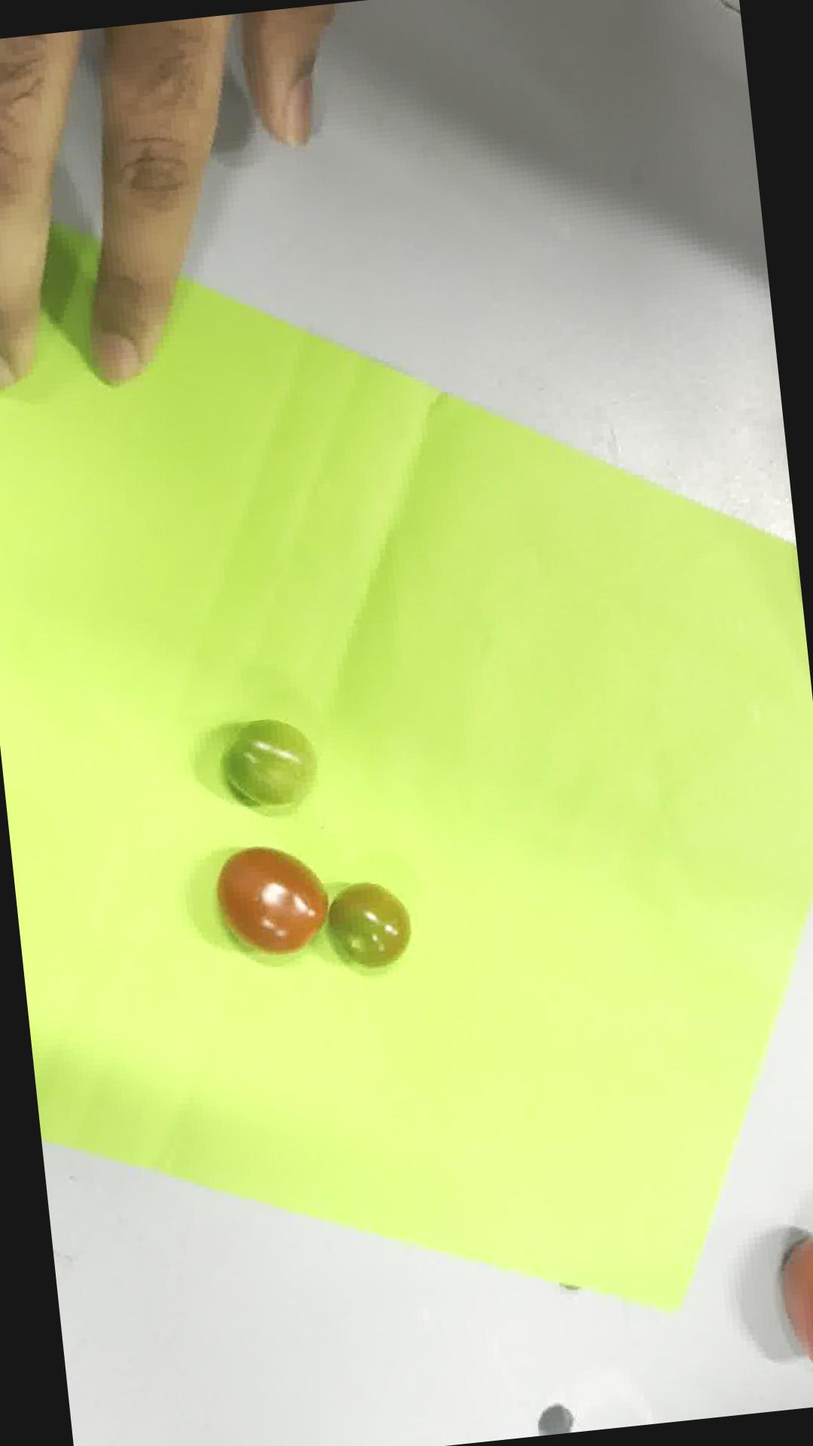green_cherry_tomato: (222, 719, 316, 813), (233, 889, 235, 891)
red_cherry_tomato: (217, 848, 328, 955)
yellow_cherry_tomato: (328, 883, 411, 969)
